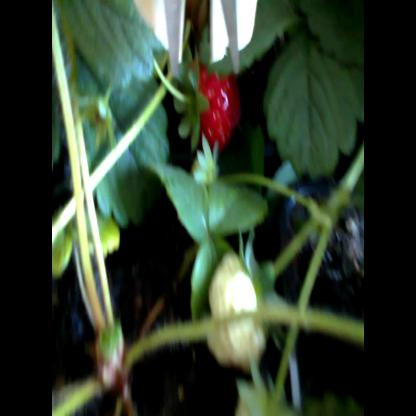ripe: (192, 53, 247, 150)
unripe: (205, 256, 262, 366)
